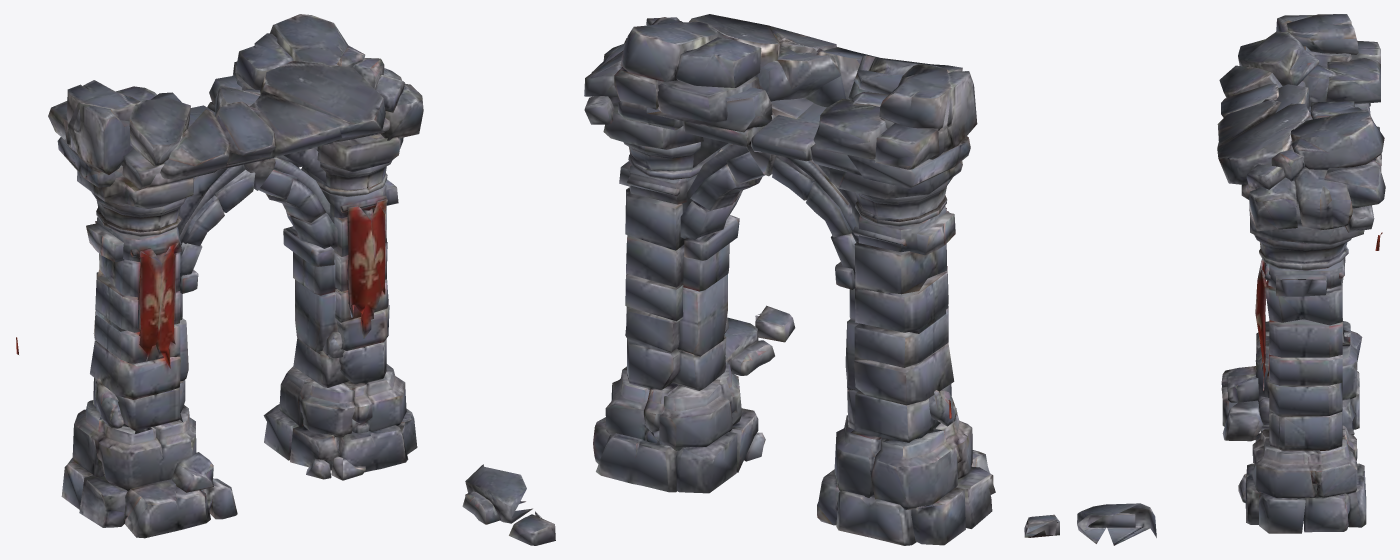
Rendered from prop_castle_arch.glb.
3 renders of one model, left to right at view 1: azimuth 30°, elevation 25°; view 2: azimuth 150°, elevation 25°; view 3: azimuth 270°, elevation 25°, orthographic. The views are drawn at different scales.
Bounding box in the file's own units: 0.3604 × 0.3813 × 0.3247.
1 material, 1 textured.
